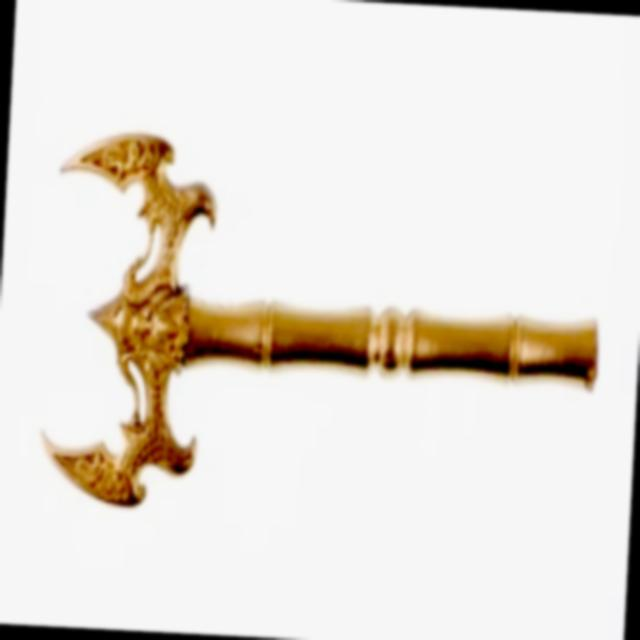spear: (25, 104, 629, 552)
